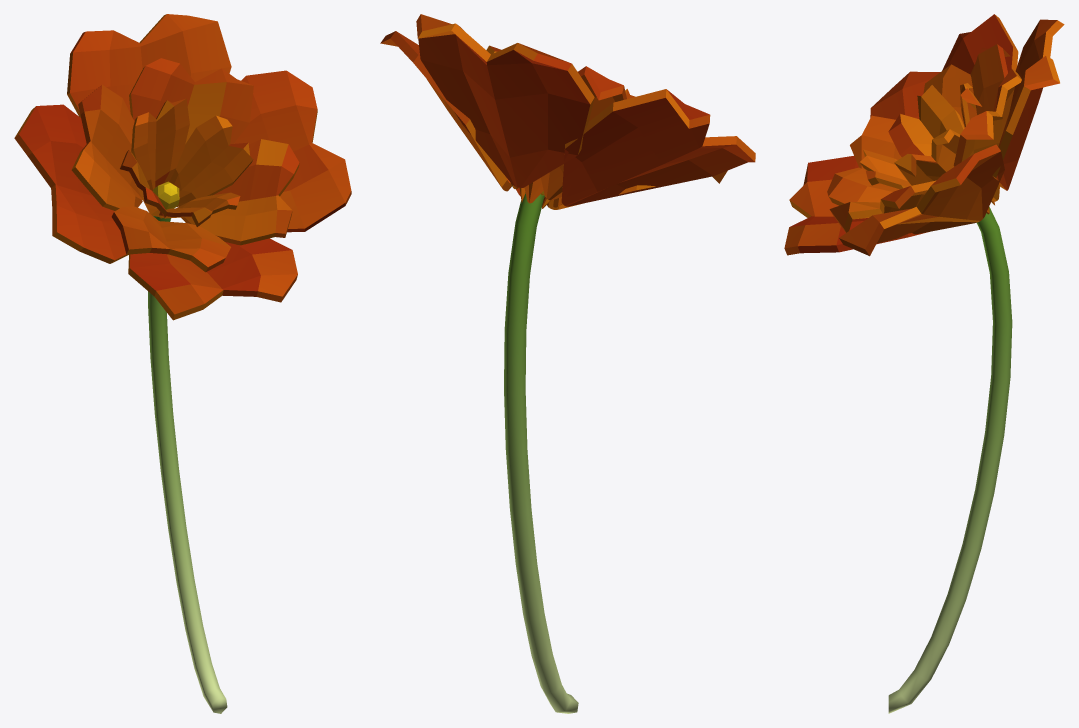
The model's file is Flower02C.fbx.
The picture shows the model from 3 angles, left to right: view 1: azimuth 30°, elevation 25°; view 2: azimuth 150°, elevation 25°; view 3: azimuth 270°, elevation 25°; orthographic projection. The views are drawn at different scales.
Parts seen in each view (by area): view 1: Flower02C_LOD0; view 2: Flower02C_LOD0; view 3: Flower02C_LOD0.
Part boxes in pixels (x1,y1,x2,y2): Flower02C_LOD0: (14, 14, 351, 713); Flower02C_LOD0: (380, 14, 755, 713); Flower02C_LOD0: (784, 14, 1064, 713).
Size of what is drawn, in the model's own units: 49.21 by 104 by 39.3.
